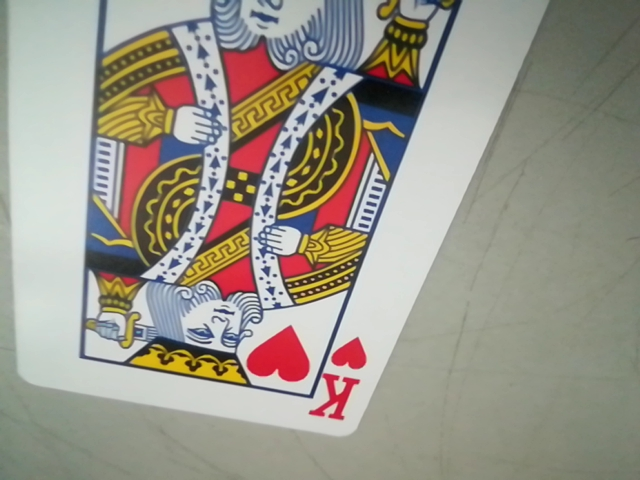hx k: (306, 335, 379, 428)
